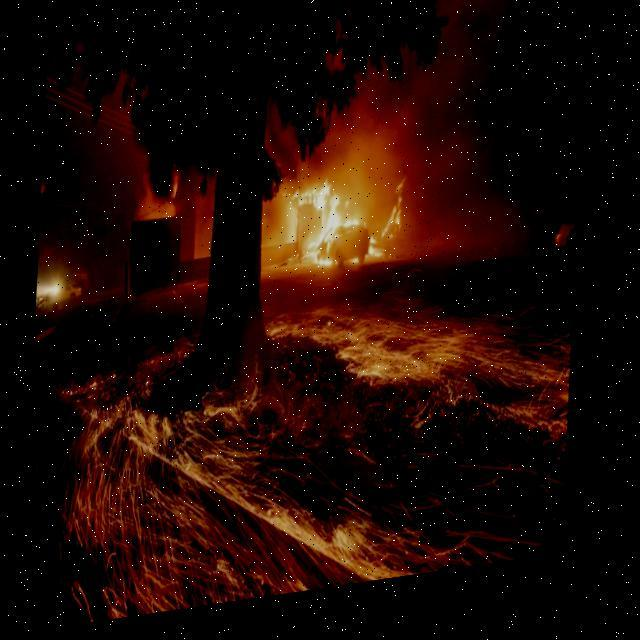Fire: (308, 189, 343, 273), (383, 193, 411, 252), (344, 228, 364, 240), (372, 246, 379, 266)
